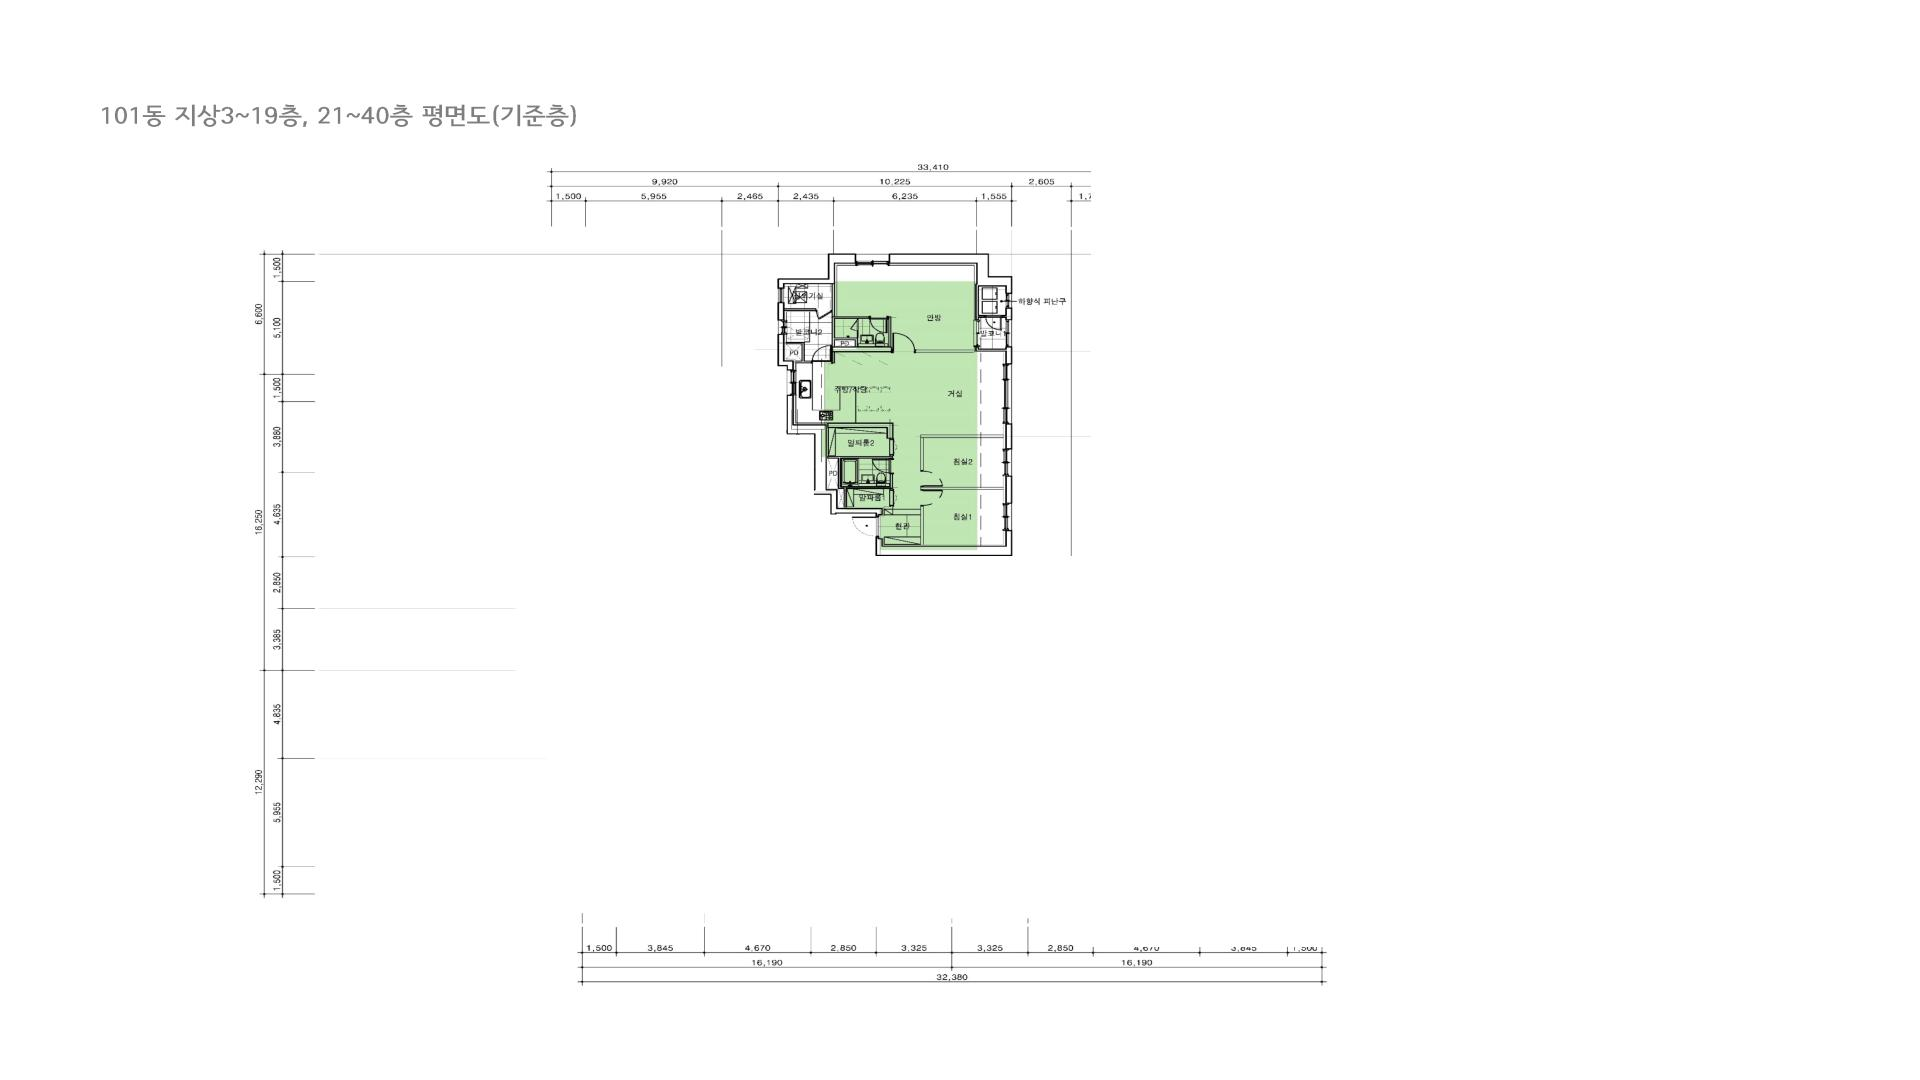door: (852, 517, 880, 537), (891, 332, 916, 353), (811, 345, 832, 364), (920, 489, 943, 506), (869, 315, 889, 334), (920, 471, 943, 487), (872, 459, 894, 475), (985, 315, 1002, 331), (815, 309, 832, 319), (889, 438, 898, 456), (889, 489, 897, 506), (851, 319, 858, 331)
wall: (787, 396, 882, 517), (890, 253, 1013, 319), (832, 284, 891, 363), (876, 531, 1013, 556), (827, 456, 893, 508), (920, 435, 1004, 471), (777, 253, 855, 289), (827, 422, 894, 438), (976, 347, 1013, 364), (778, 335, 794, 371), (786, 342, 811, 363), (916, 349, 975, 353), (1005, 476, 1013, 504), (920, 487, 1004, 489), (1005, 425, 1013, 448), (920, 506, 924, 545), (777, 302, 785, 320), (1002, 307, 1013, 320), (785, 309, 815, 311), (884, 506, 893, 509)
window: (1002, 364, 1013, 425), (855, 253, 890, 266), (1002, 504, 1013, 531), (1002, 448, 1013, 476), (787, 371, 796, 396), (1005, 320, 1013, 347), (973, 319, 980, 347), (778, 320, 787, 335), (1005, 294, 1013, 307), (777, 289, 785, 302)
